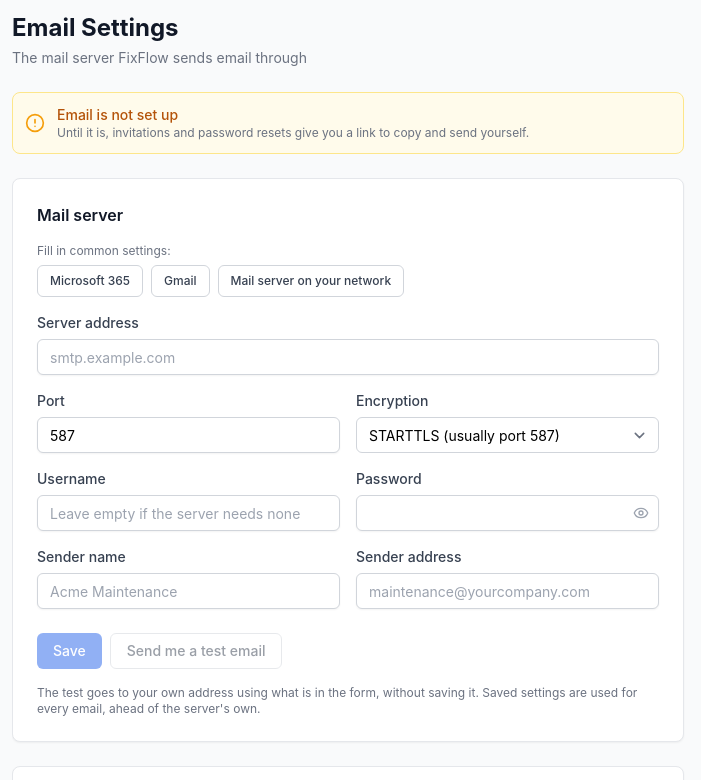
it: EmailSettingsPage › fills in common settings for a provider, with the thing people trip over
The image size is (701, 780).
Click the button "Gmail" at (180,281), box [151,265,210,297]
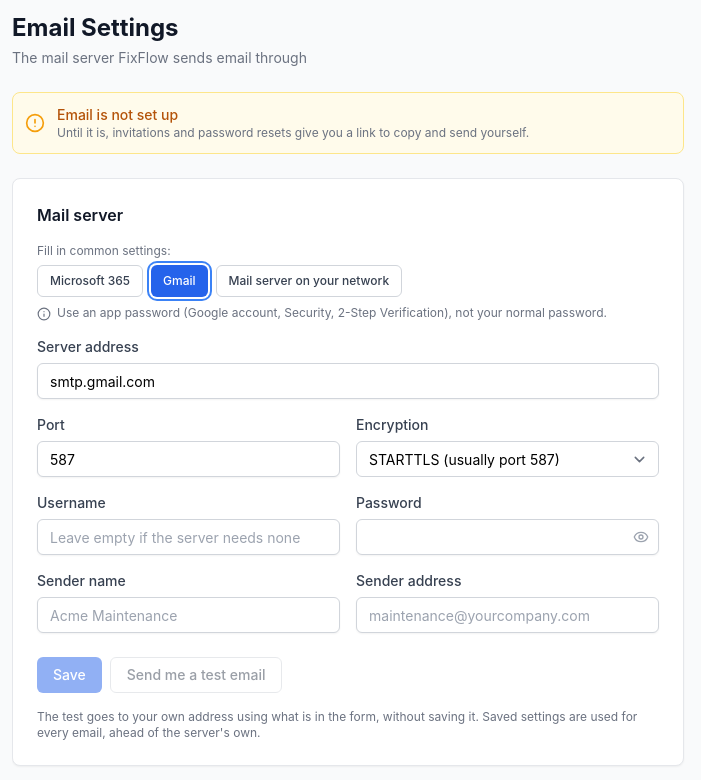
Check: the number field labelled "Port" holds "587", box [37,441,340,477]
Check: the field labelled "Server address" holds "smtp.gmail.com", box [37,363,659,399]
Check: the text "app password" is shown, box [57,305,607,320]
